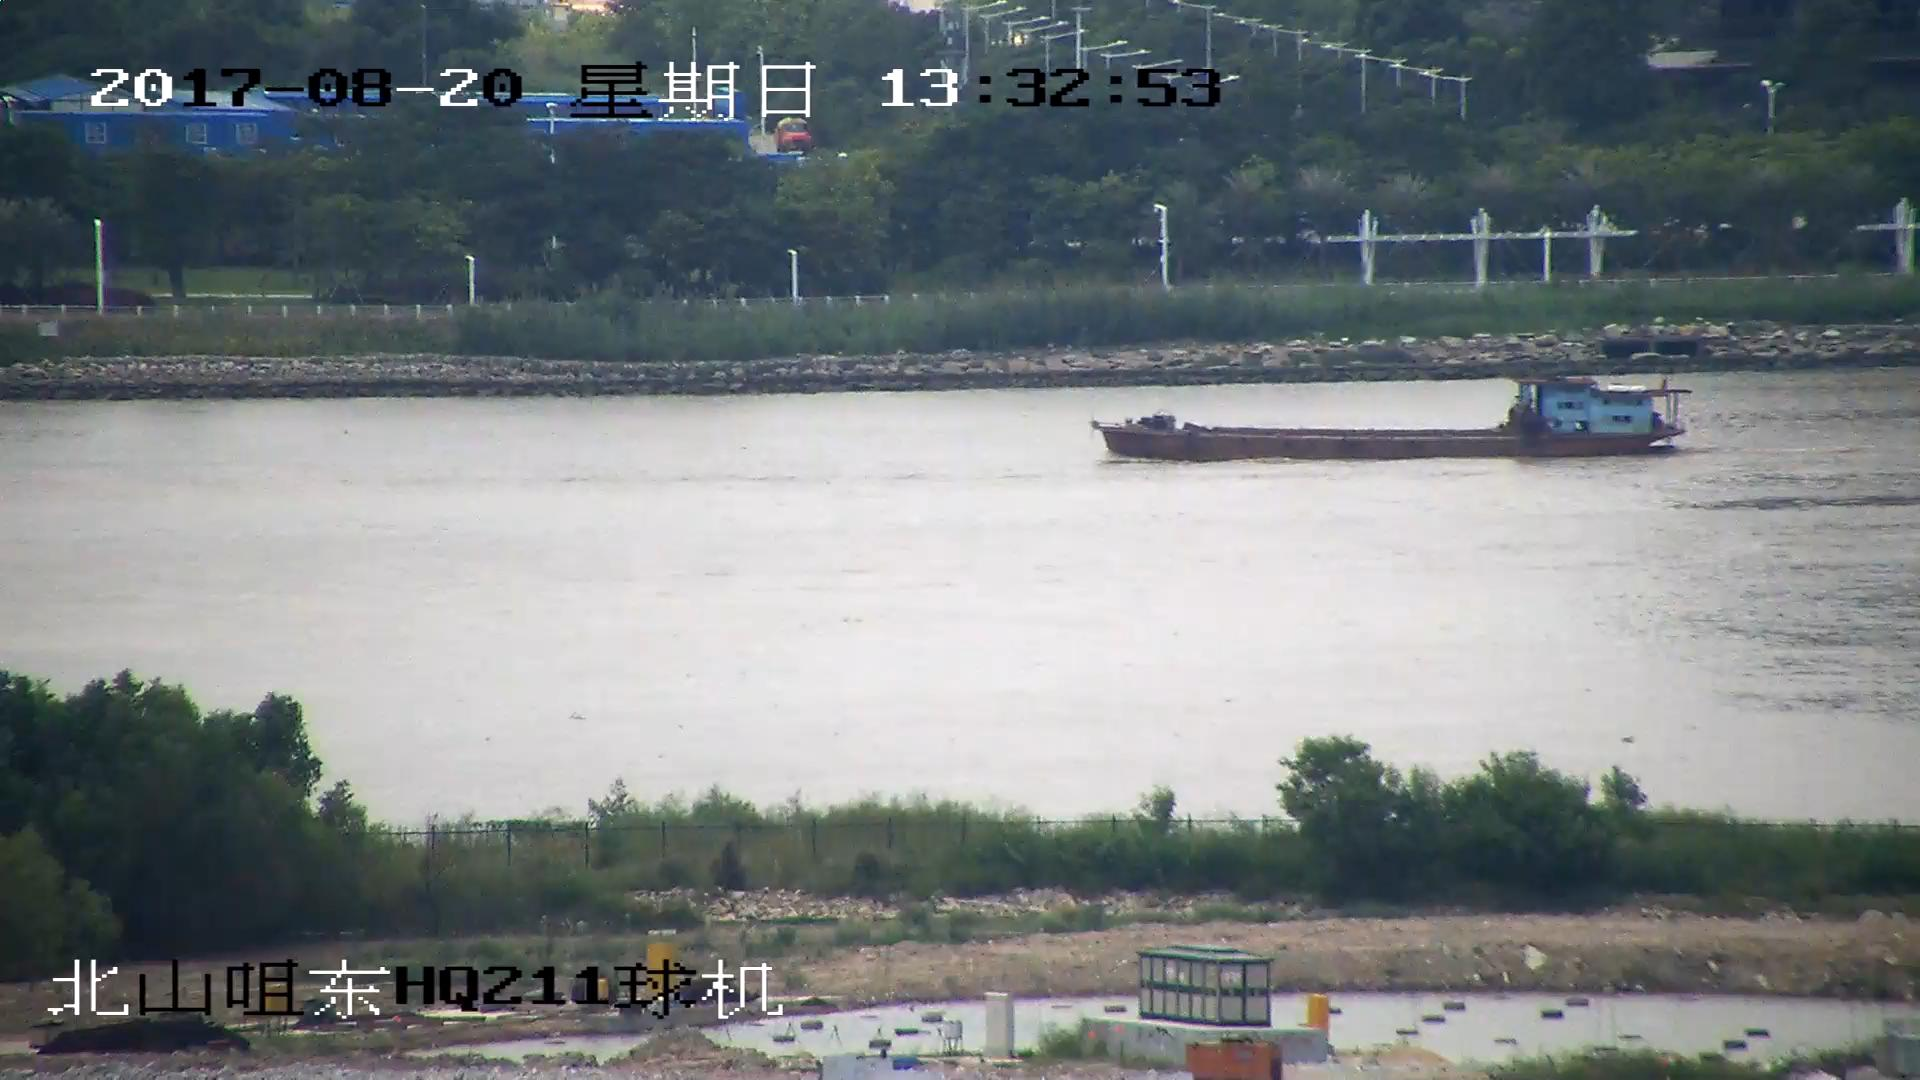bulk cargo carrier: (1094, 375, 1687, 460)
